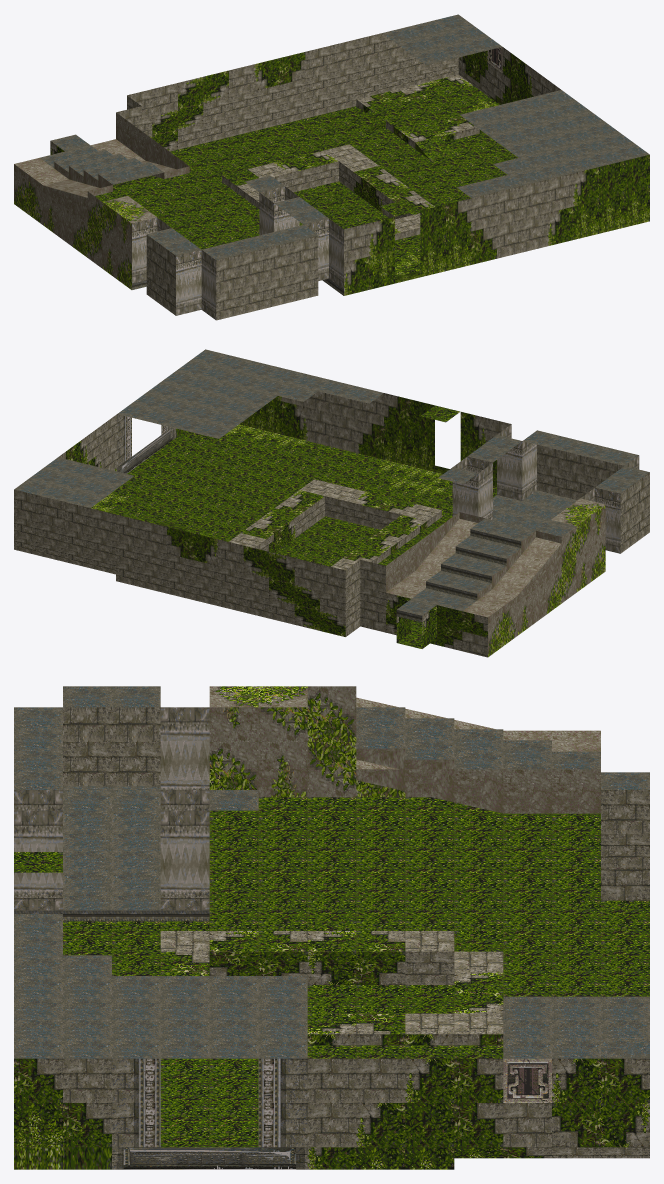
Rendered from room29.obj.
3 renders of one model, top to bottom at view 1: azimuth 30°, elevation 25°; view 2: azimuth 150°, elevation 25°; view 3: azimuth 270°, elevation 25°, orthographic. The views are drawn at different scales.
Visible parts, largest first — view 1: 01-Caves.029; view 2: 01-Caves.029; view 3: 01-Caves.029.
Boxes of the visible parts, x1,y1,x2,y2 form: 01-Caves.029: (14, 14, 649, 320); 01-Caves.029: (14, 349, 649, 657); 01-Caves.029: (14, 686, 649, 1169).
Size of the model in its own units: 180 by 30 by 130.
1 material, 1 textured.
